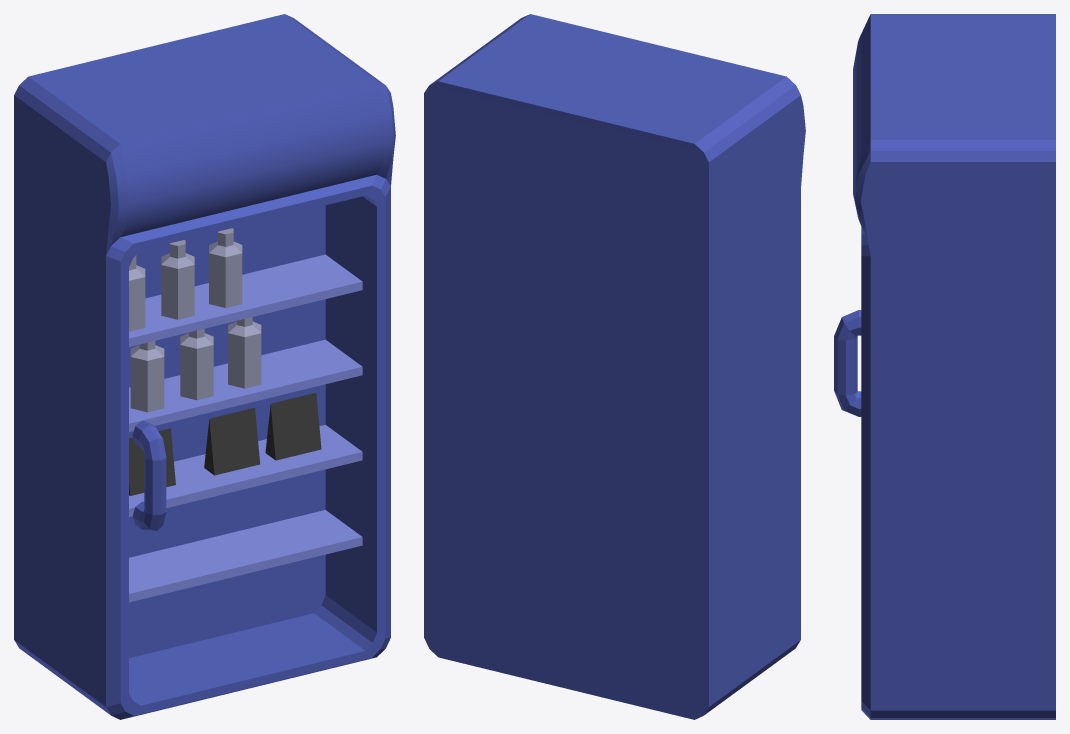
The model's file is MD_jihanki_251208.fbx.
3 views of the same model, side by side, from view 1: azimuth 30°, elevation 25°; view 2: azimuth 150°, elevation 25°; view 3: azimuth 270°, elevation 25° (orthographic).
Parts seen in each view (by area): view 1: jihanki_ketugou; view 2: jihanki_ketugou; view 3: jihanki_ketugou.
Boxes of the visible parts, x1,y1,x2,y2 form: jihanki_ketugou: (14, 14, 395, 719); jihanki_ketugou: (424, 14, 805, 719); jihanki_ketugou: (834, 14, 1055, 719).
Bounding box in the file's own units: 303 × 585 × 203.
